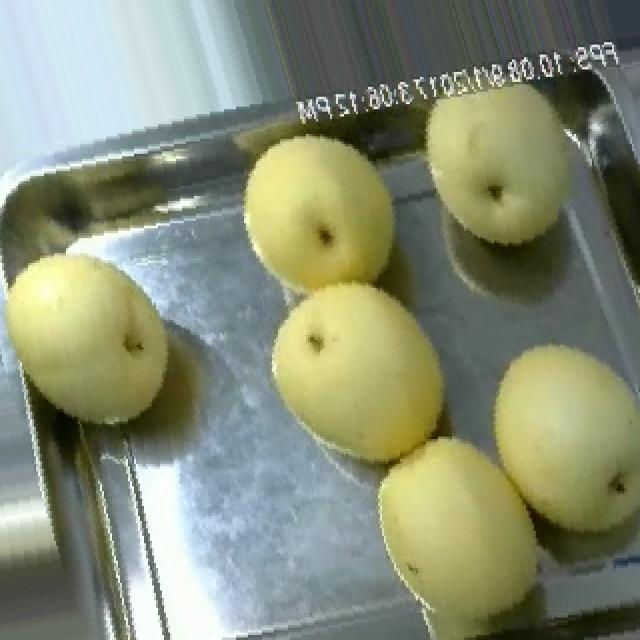Fruit: (242, 263, 472, 486), (352, 412, 570, 640), (396, 52, 614, 270), (216, 111, 426, 322), (0, 226, 198, 449), (464, 320, 640, 566)
